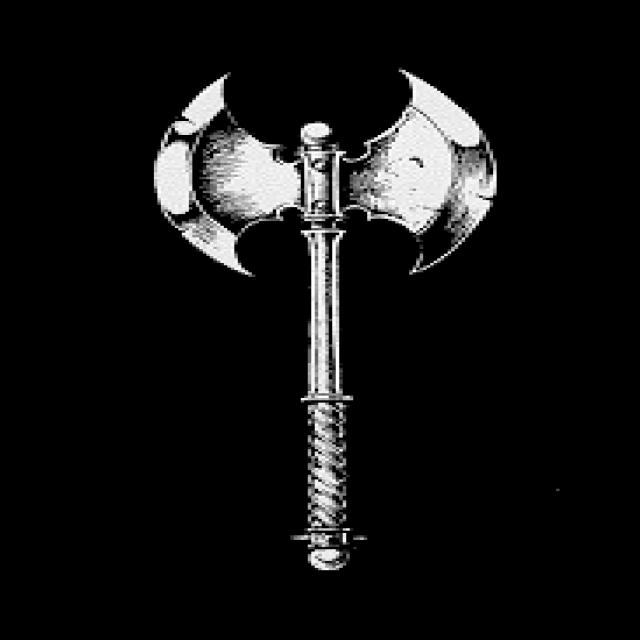Gun: (112, 47, 514, 584)
